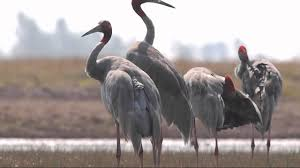seu_dau_do: (78, 19, 160, 164), (120, 1, 197, 147), (184, 62, 263, 157), (233, 45, 285, 163)
